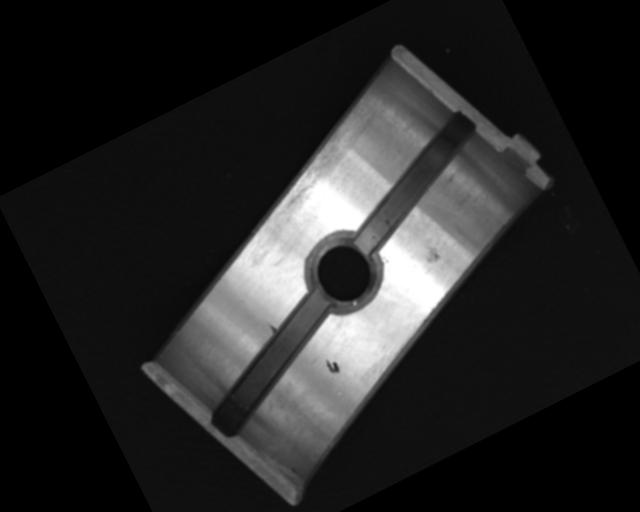blot: (322, 353, 343, 377)
bruise: (420, 243, 442, 266), (266, 320, 280, 335)
gap: (184, 287, 361, 437), (324, 108, 500, 253)
hole: (294, 221, 392, 322)
scratch: (234, 86, 411, 227)
